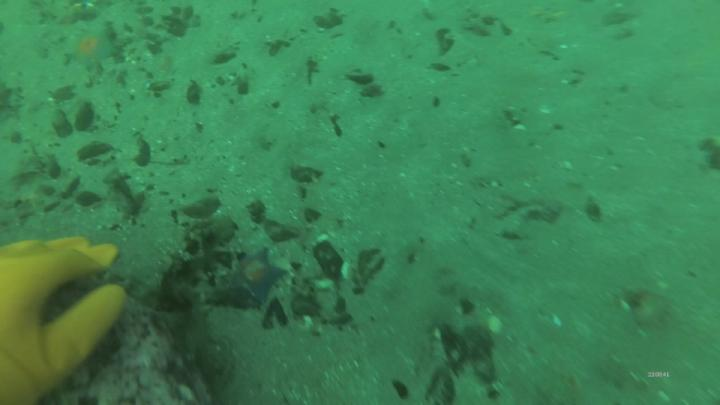starfish: (227, 251, 286, 301), (72, 30, 120, 70)
